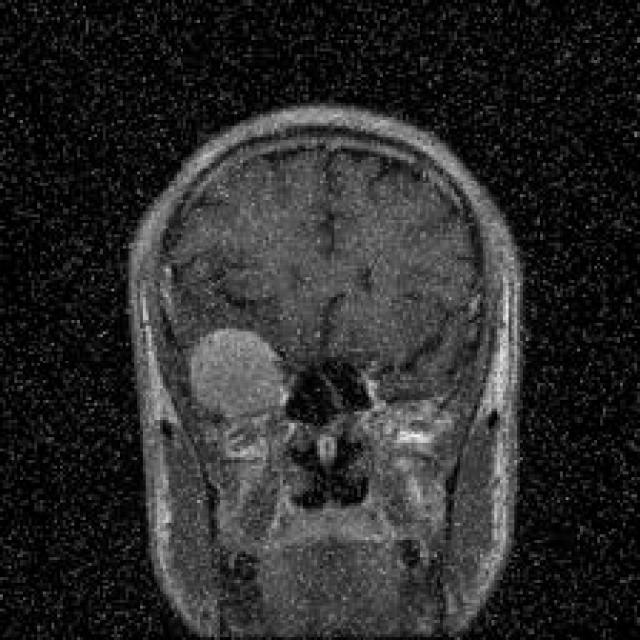meningioma_tumor: (174, 321, 308, 440)
